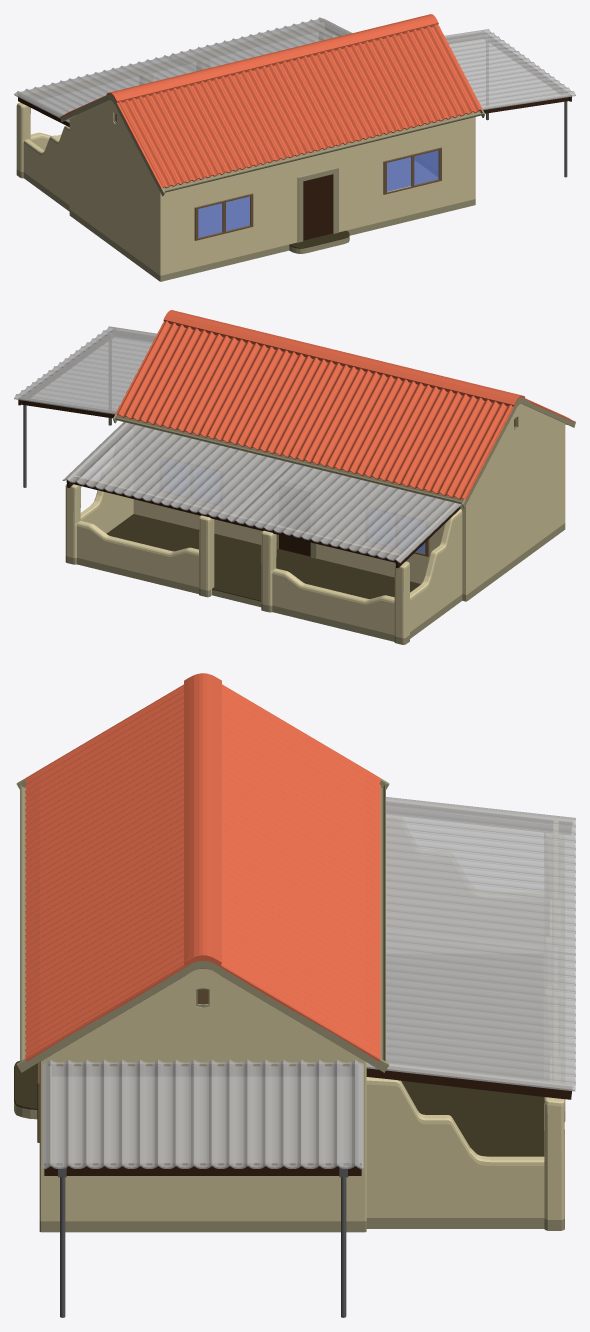
Rendered from House17.fbx.
3 views of the same model, one above another, from view 1: azimuth 30°, elevation 25°; view 2: azimuth 150°, elevation 25°; view 3: azimuth 270°, elevation 25° (orthographic). The views are drawn at different scales.
Visible parts, largest first — view 1: Cube; view 2: Cube; view 3: Cube.
Part boxes in pixels (x1,y1,x2,y2): Cube: (14,14,575,281); Cube: (14,310,575,644); Cube: (14,673,575,1317).
Bounding box in the file's own units: 2660 × 945 × 1719.
